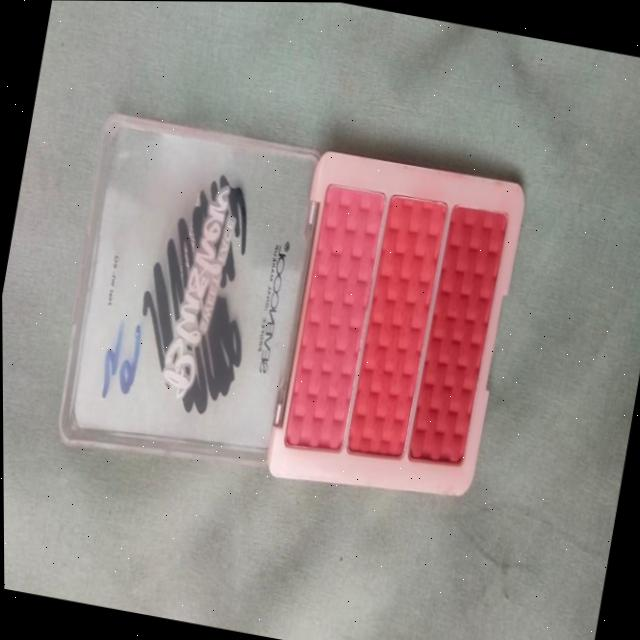blush: (265, 138, 531, 498), (339, 173, 454, 482), (395, 184, 515, 480), (270, 176, 393, 459)
